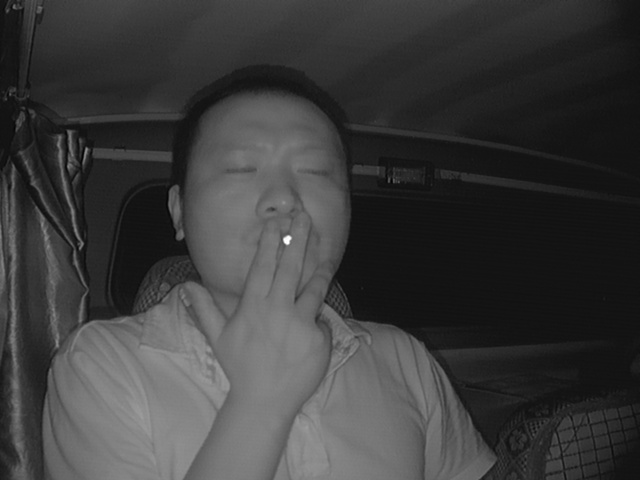hand: (241, 226, 340, 350)
